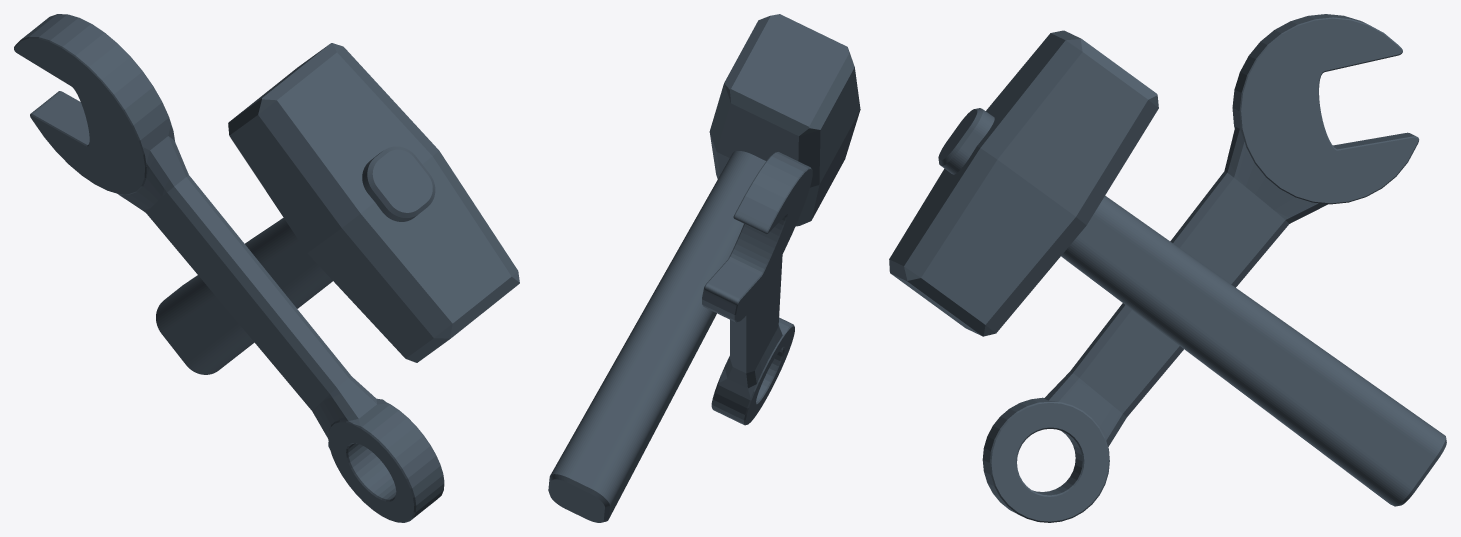
Rendered from hammer.glb.
3 renders of one model, left to right at view 1: azimuth 30°, elevation 25°; view 2: azimuth 150°, elevation 25°; view 3: azimuth 270°, elevation 25°, orthographic. The views are drawn at different scales.
Parts seen in each view (by area): view 1: handle.001, wrench.001; view 2: handle.001, wrench.001; view 3: handle.001, wrench.001.
Part boxes in pixels (box(x1,y1,x2,y2)): handle.001: box(156, 43, 519, 374); wrench.001: box(14, 14, 444, 522); handle.001: box(548, 14, 860, 522); wrench.001: box(702, 152, 812, 425); handle.001: box(889, 30, 1446, 506); wrench.001: box(982, 14, 1419, 522).
Bounding box in the file's own units: 2.09 × 3.5 × 3.83.
